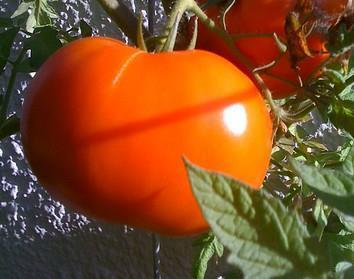tomato: (21, 36, 273, 235)
